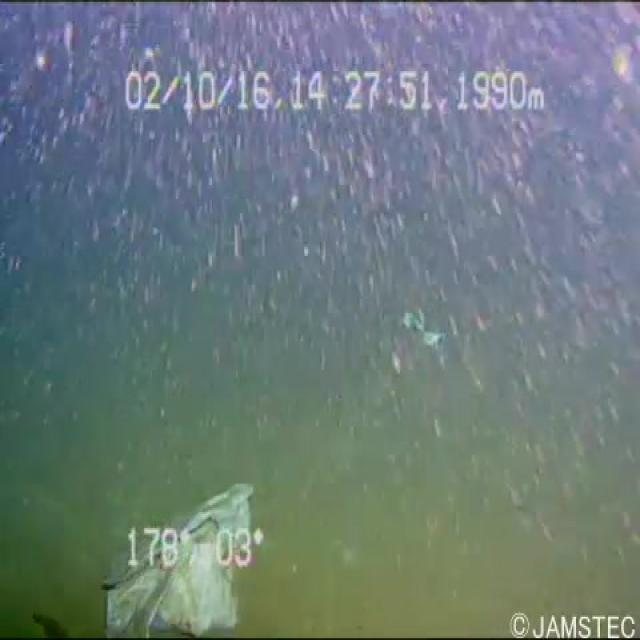plastic: (84, 459, 265, 638), (393, 288, 467, 372)
